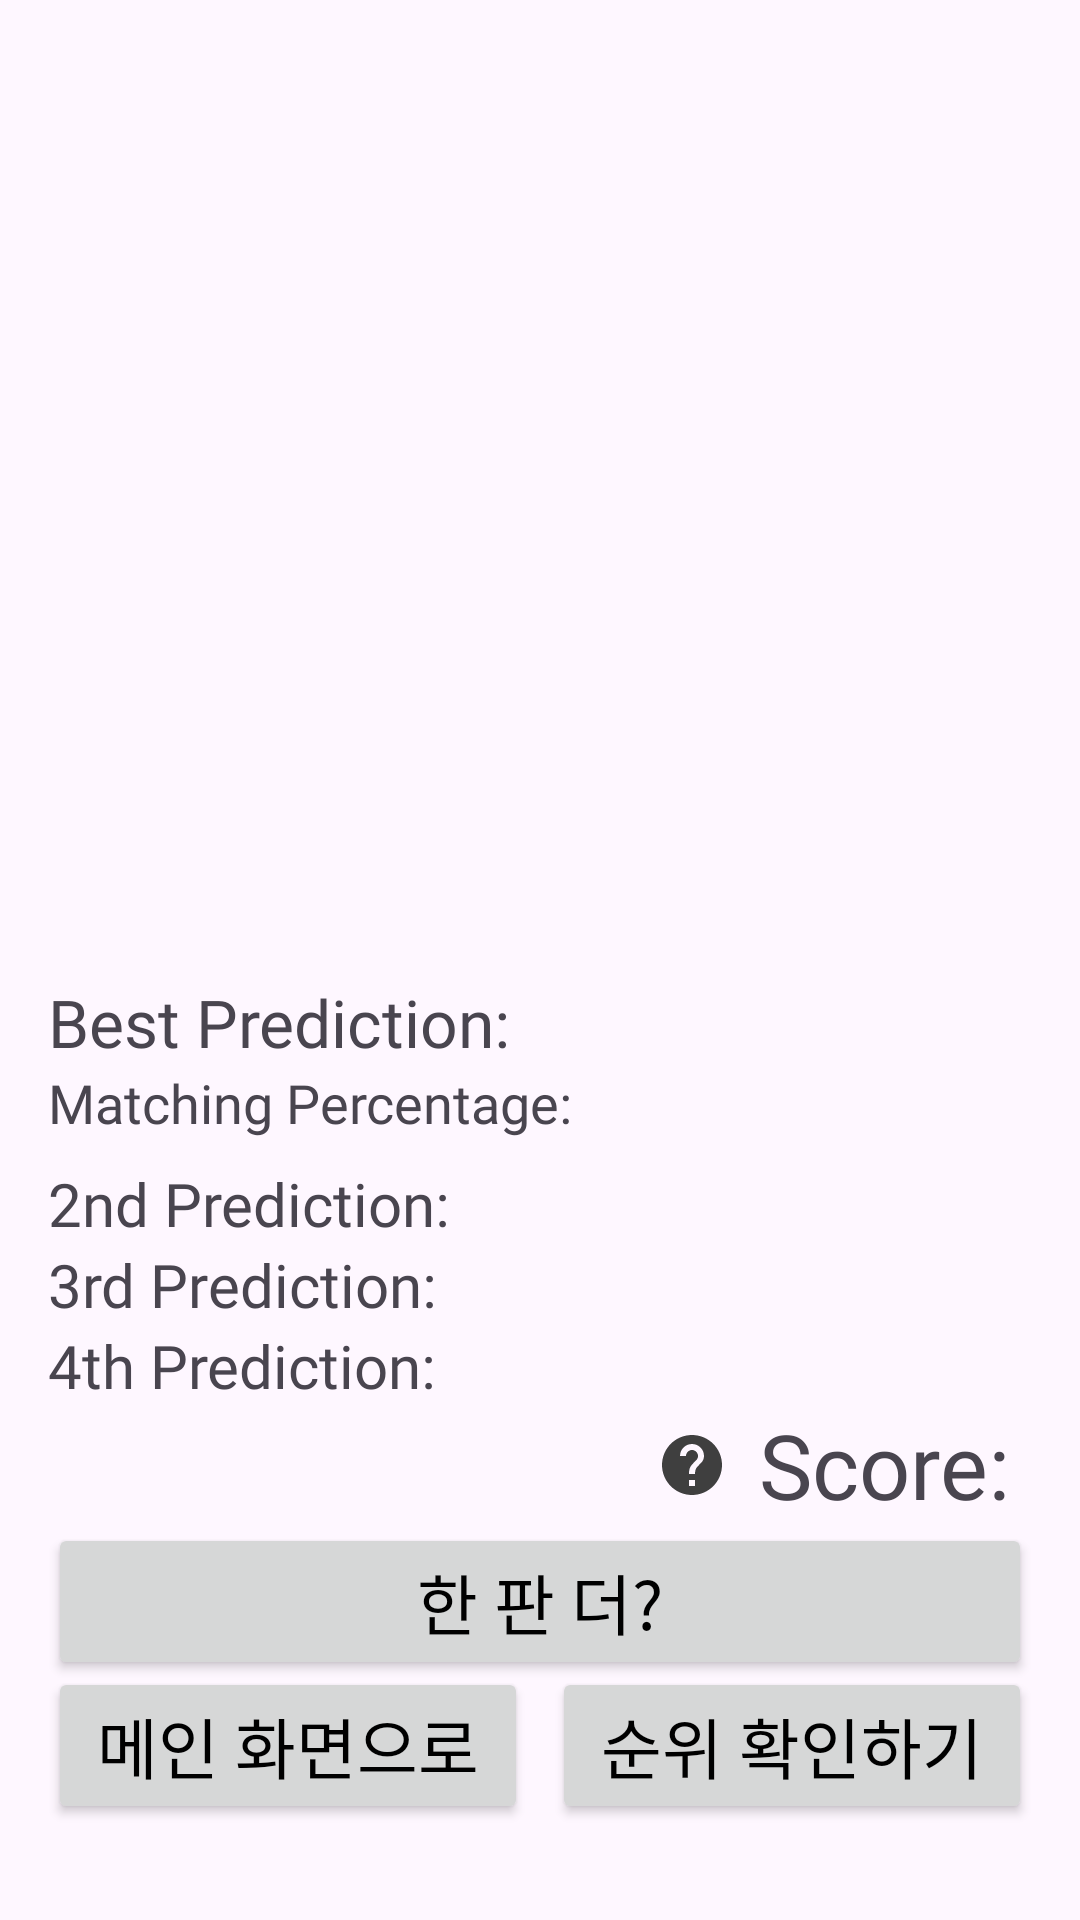

Named icons in this screenshot (1080 x 1920) and their bounding boxes, [x1=x1, y1=y1, x2=x2, y2=y2]:
help: [x1=662, y1=1435, x2=722, y2=1495]
